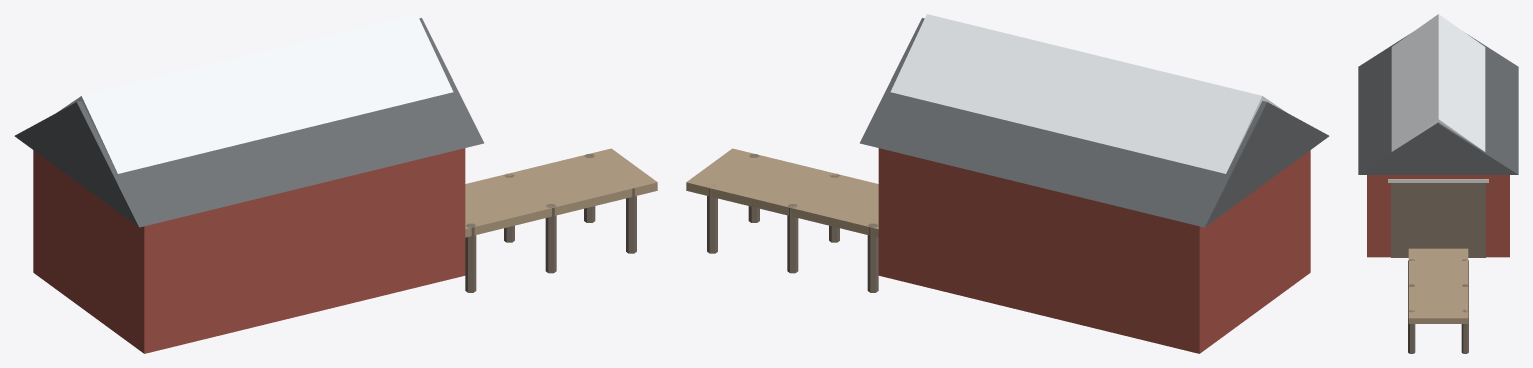
Rendered from Boathouse.glb.
3 views of the same model, side by side, from view 1: azimuth 30°, elevation 25°; view 2: azimuth 150°, elevation 25°; view 3: azimuth 270°, elevation 25° (orthographic). The views are drawn at different scales.
Parts seen in each view (by area): view 1: Naust, Naust roof snow, Naust roof, Jetty, Limb.036, Limb.038, Limb.040; view 2: Naust, Naust roof snow, Naust roof, Jetty, Limb.037, Limb.039, Limb.041; view 3: Naust roof, Naust roof snow, Boat doors, Jetty, Naust, Door trim, Limb.041, Limb.040.
Part boxes in pixels (x1=…): Naust: x1=33, y1=148, x2=465, y2=353; Naust roof snow: x1=57, y1=14, x2=453, y2=173; Naust roof: x1=14, y1=18, x2=483, y2=227; Jetty: x1=465, y1=148, x2=657, y2=237; Limb.036: x1=465, y1=223, x2=476, y2=292; Limb.038: x1=545, y1=204, x2=556, y2=273; Limb.040: x1=626, y1=184, x2=636, y2=253; Naust: x1=878, y1=148, x2=1310, y2=353; Naust roof snow: x1=890, y1=14, x2=1286, y2=173; Naust roof: x1=860, y1=18, x2=1329, y2=227; Jetty: x1=686, y1=148, x2=878, y2=237; Limb.037: x1=867, y1=223, x2=878, y2=292; Limb.039: x1=787, y1=204, x2=798, y2=273; Limb.041: x1=707, y1=185, x2=717, y2=253; Naust roof: x1=1358, y1=33, x2=1518, y2=174; Naust roof snow: x1=1391, y1=14, x2=1485, y2=151; Boat doors: x1=1391, y1=183, x2=1485, y2=257; Jetty: x1=1408, y1=248, x2=1468, y2=323; Naust: x1=1367, y1=175, x2=1509, y2=257; Door trim: x1=1388, y1=179, x2=1488, y2=182; Limb.041: x1=1461, y1=309, x2=1468, y2=353; Limb.040: x1=1408, y1=309, x2=1415, y2=353.
Size of the model in its own units: 13.9 by 6.42 by 5.4.
